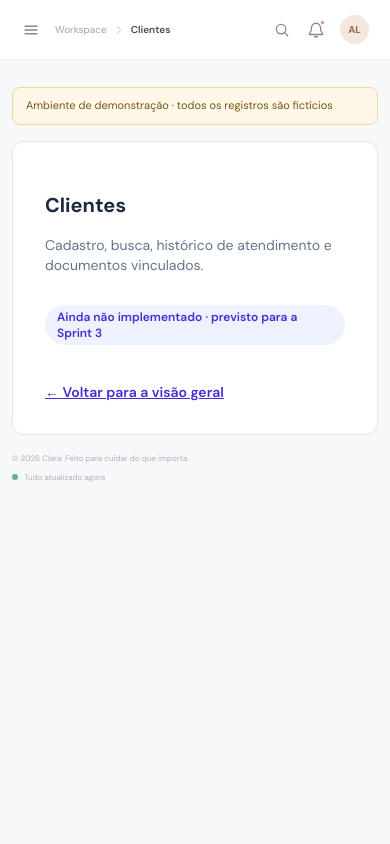
Test case: Menu responsivo › abre e fecha o menu, refletindo o estado em aria-expanded
What coordinates should you click on to do the following:
click the button named "Abrir menu"
I would click on:
 (31, 30)
Its box is [15,14,47,46].
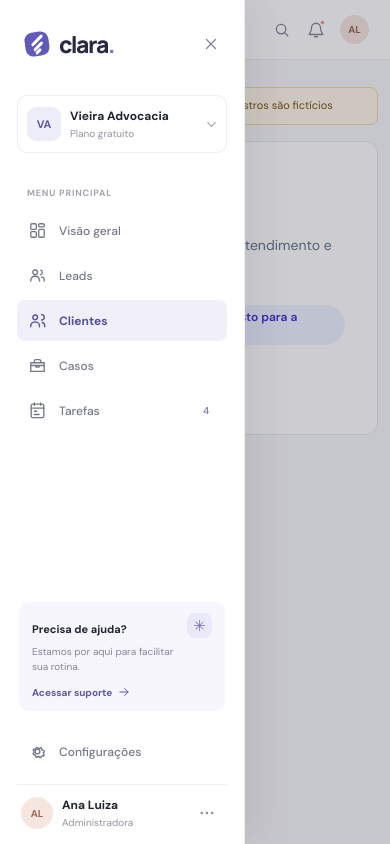
Check: the button named "Abrir menu" is expanded, box [15,14,47,46]
Check: the number of buttons named "Fechar menu" is 2
What coordinates should you click on to do the following:
click the 1st button named "Fechar menu"
I would click on:
 (367, 422)
Its box is [0,0,389,843].
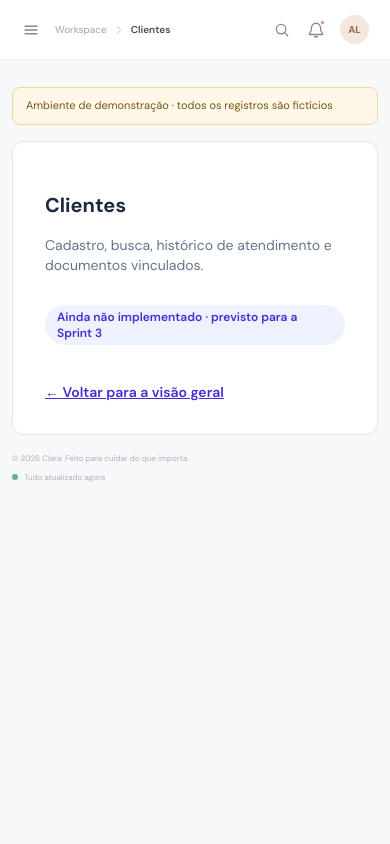
Check: the button named "Abrir menu" is collapsed, box [15,14,47,46]
